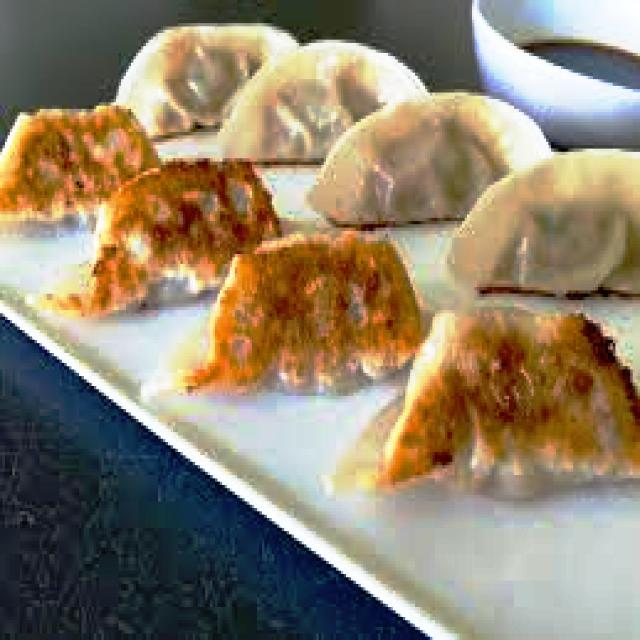fried_dumplings: (367, 310, 640, 485), (176, 228, 420, 381), (54, 162, 280, 313), (313, 92, 552, 222), (449, 150, 640, 294), (212, 41, 426, 165), (113, 26, 296, 135), (1, 101, 154, 211)
